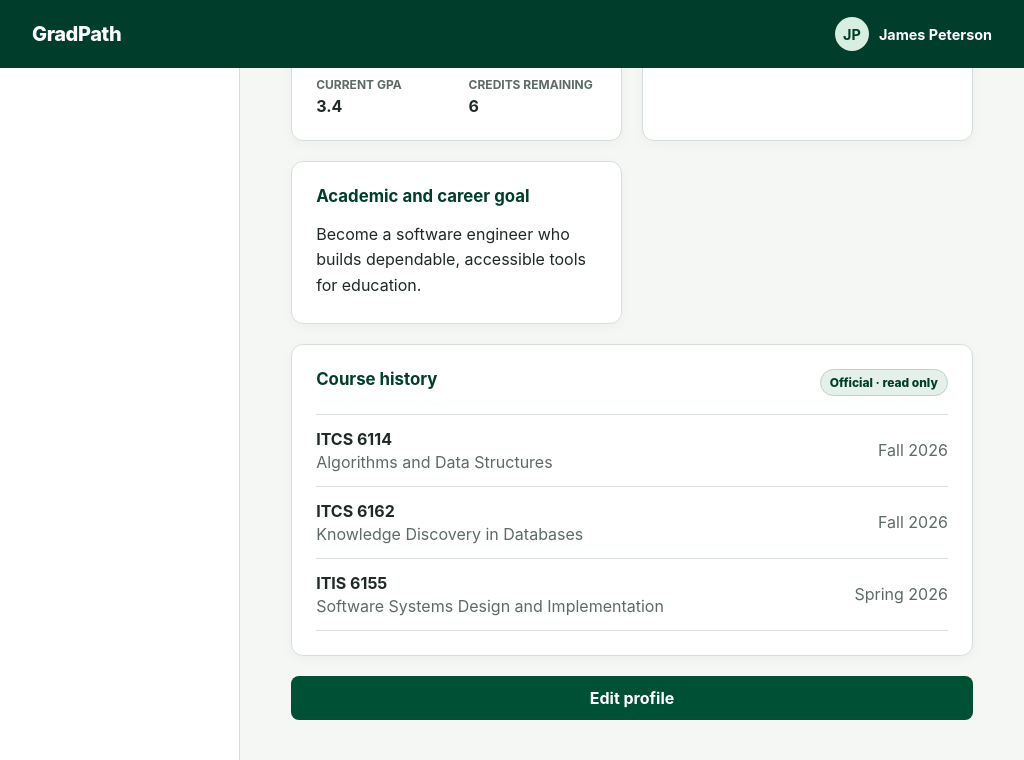
Test: loads from the API repository and waits for a successful save before confirming
The image size is (1024, 760).
Later steps or results of the test are not shown.
(page scrolled)
Click the button "Edit profile". click: (632, 698)
box: [291,676,973,720]
(page scrolled)
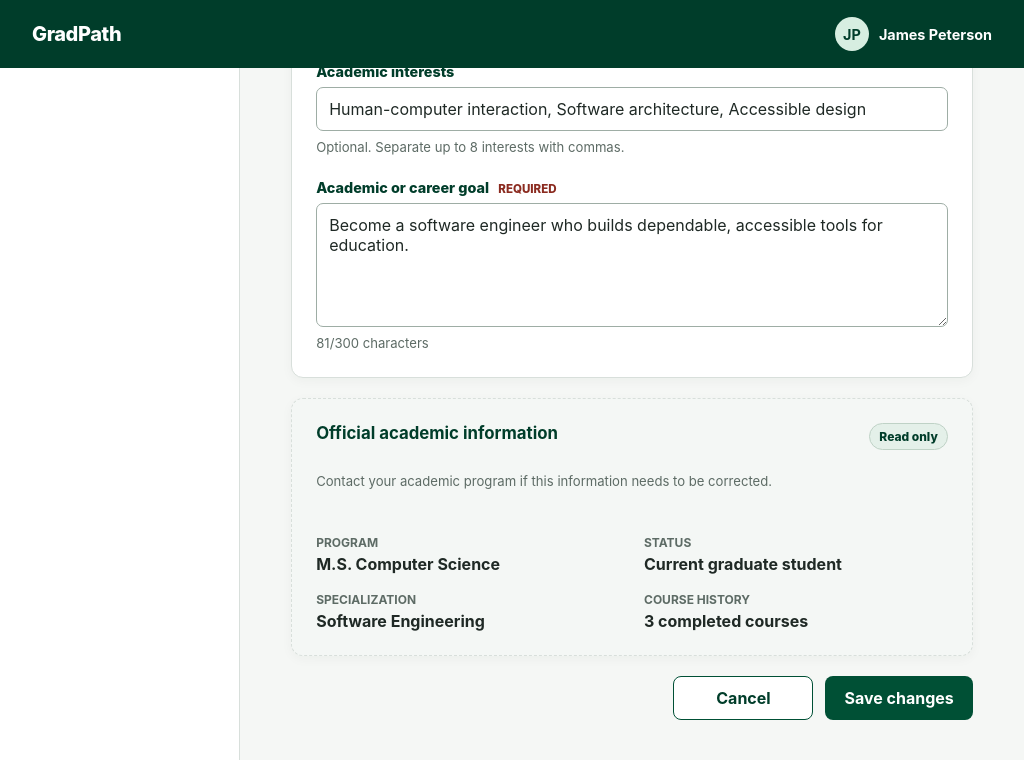
Click the button "Save changes". click: (899, 698)
box: [826,676,973,720]
(page scrolled)
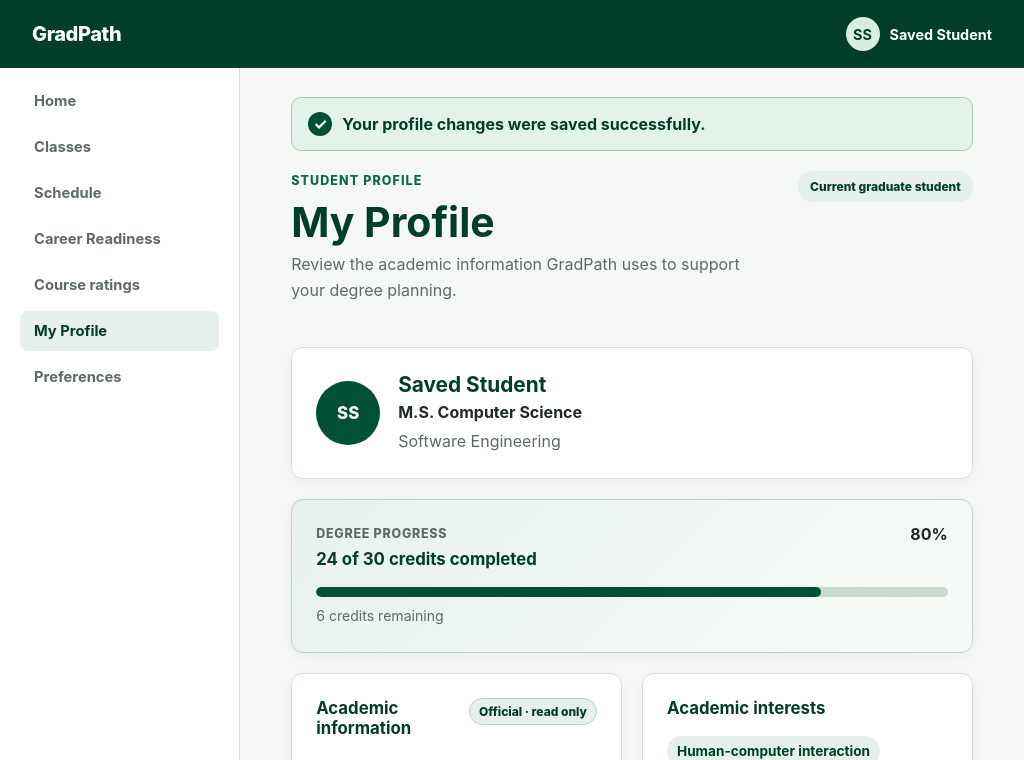
Expected: the heading "Saved Student" is shown, [398,372,546,397]
